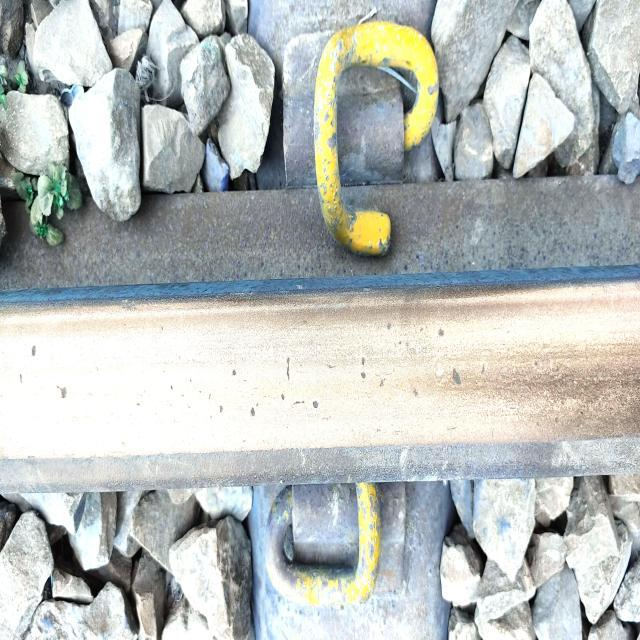Good Fasteners: (271, 11, 443, 268), (253, 473, 431, 625)
